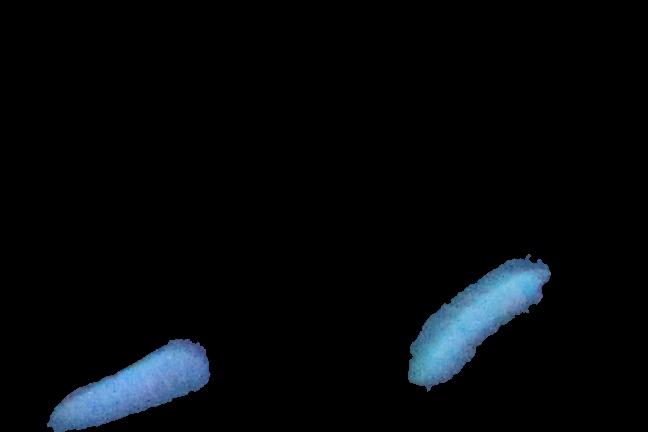larvae: (412, 253, 552, 393), (44, 330, 218, 427)
